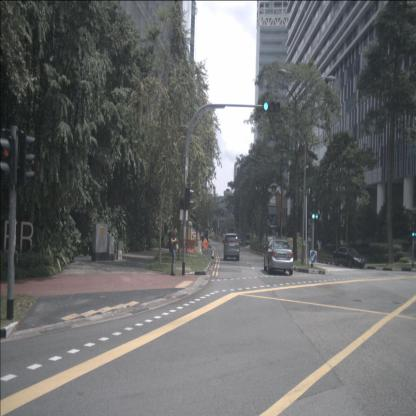human-pedestrian-adult: (169, 226, 177, 276)
movable_object-barrier: (180, 239, 196, 254), (196, 239, 203, 255), (310, 250, 321, 259)
vehicle-car: (264, 239, 294, 275), (332, 246, 365, 268), (224, 233, 240, 260)
